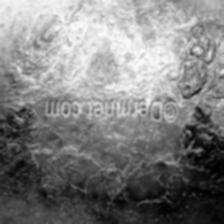Unclassified: (89, 42, 119, 86), (178, 60, 208, 99), (6, 97, 32, 135)
